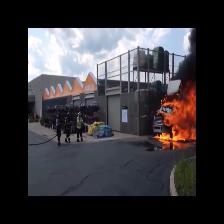fire: (164, 100, 197, 145)
smoke: (186, 54, 197, 85)
